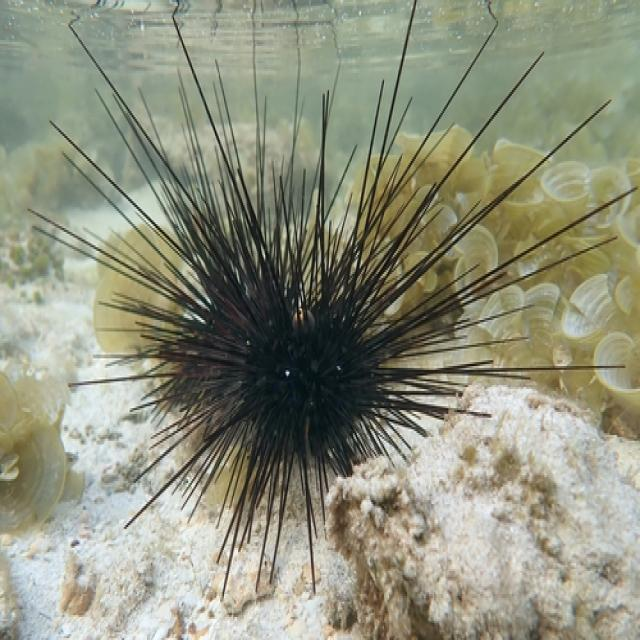Urchin: (30, 5, 640, 605)
